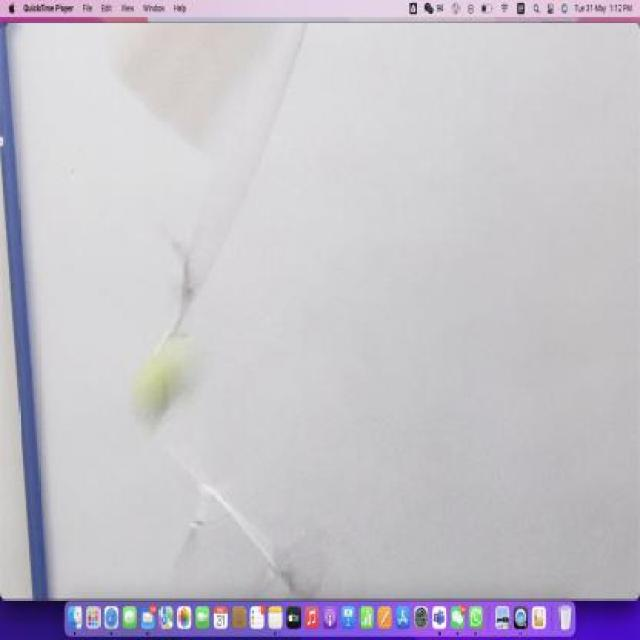baseball: (126, 342, 199, 430)
